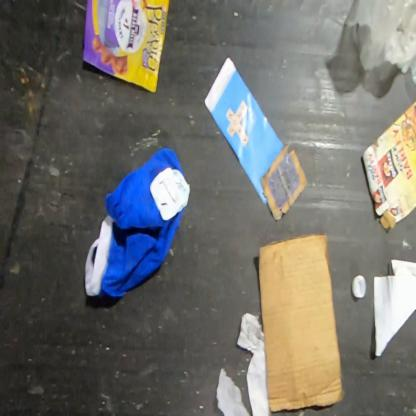cardboard: (258, 232, 344, 414), (361, 98, 415, 231), (149, 167, 191, 221)
rigid_plastic: (351, 274, 367, 299)
soft_plastic: (82, 0, 171, 94), (344, 0, 415, 90)
